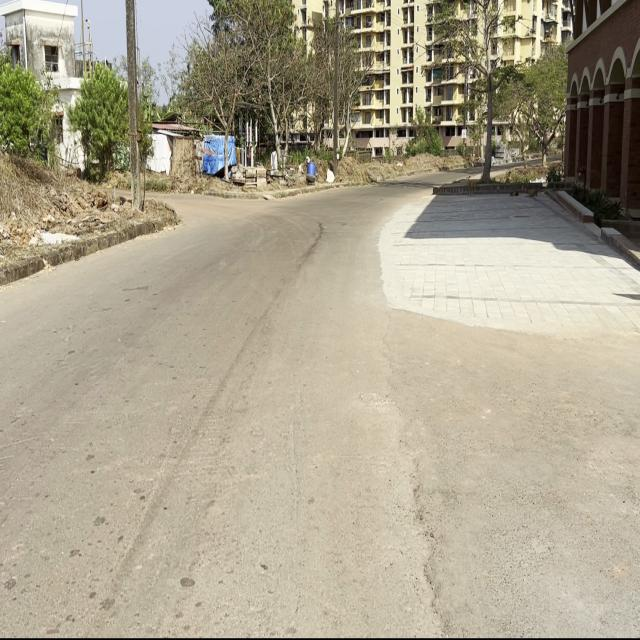Road: (0, 190, 434, 640)
